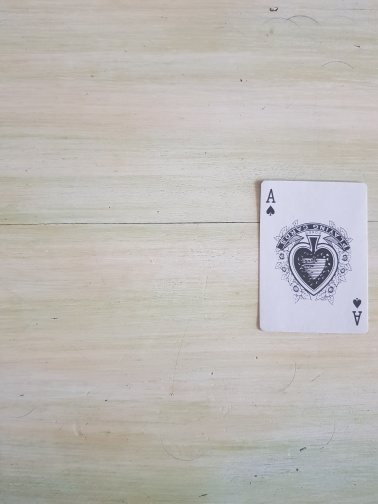ace: (257, 181, 370, 335)
